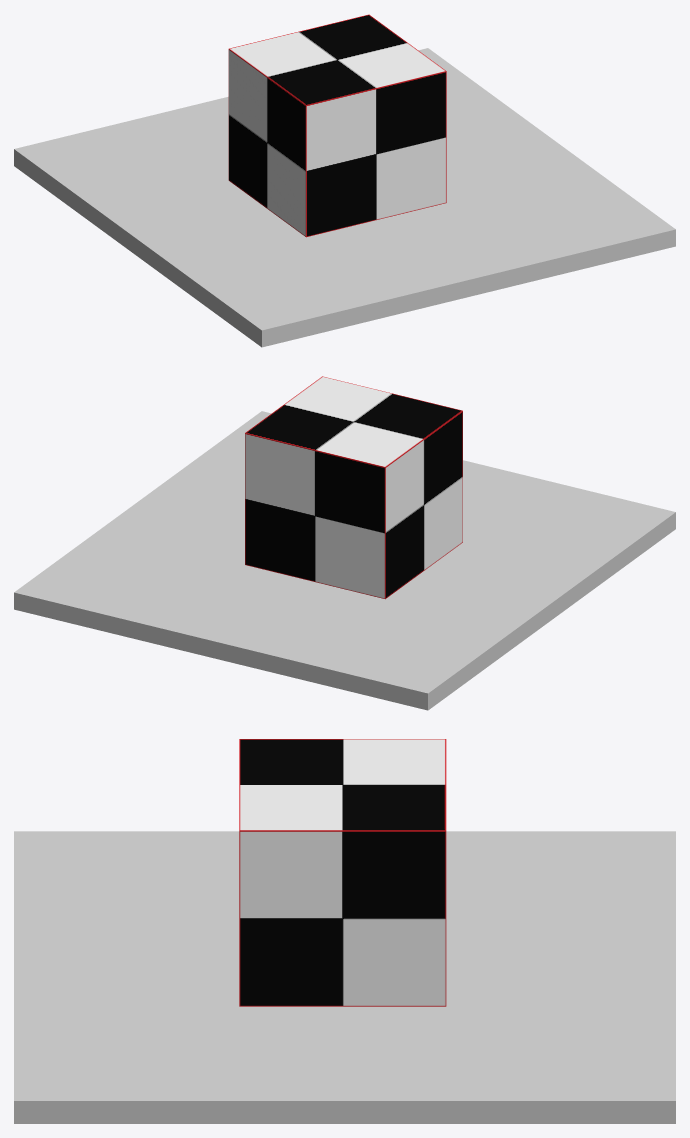
File: TestCube.FBX
3 renders of one model, top to bottom at view 1: azimuth 30°, elevation 25°; view 2: azimuth 150°, elevation 25°; view 3: azimuth 270°, elevation 25°, orthographic. The views are drawn at different scales.
Visible parts, largest first — view 1: Box002, Box001; view 2: Box002, Box001; view 3: Box002, Box001.
Part boxes in pixels (x1=…): Box002: x1=14, y1=48, x2=675, y2=347; Box001: x1=228, y1=14, x2=446, y2=237; Box002: x1=14, y1=411, x2=675, y2=710; Box001: x1=245, y1=376, x2=462, y2=599; Box002: x1=14, y1=831, x2=675, y2=1123; Box001: x1=239, y1=739, x2=446, y2=1006.
Bounding box in the file's own units: 139 × 47.66 × 144.
